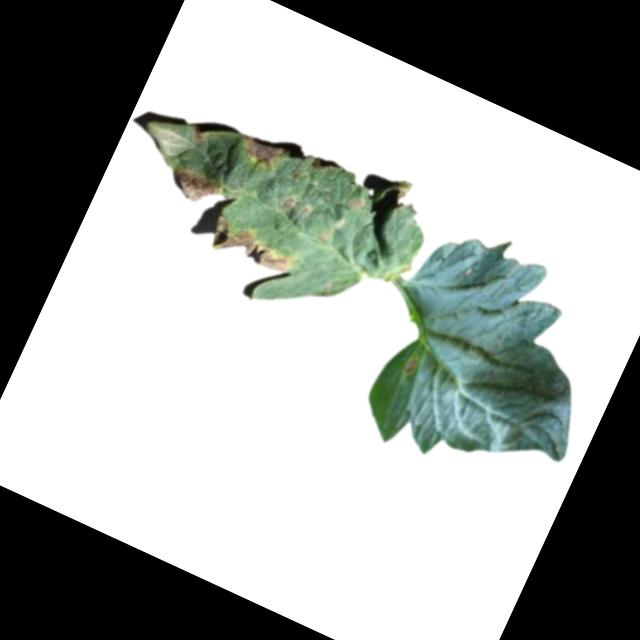Early_blight: (204, 216, 297, 282), (165, 160, 228, 212), (235, 130, 289, 175), (276, 191, 297, 213), (400, 355, 419, 377), (190, 126, 207, 145)
